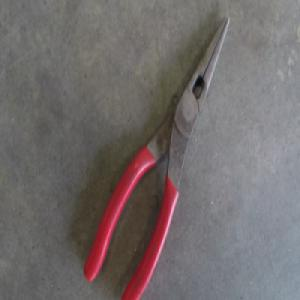Pliers: (81, 22, 228, 297)
